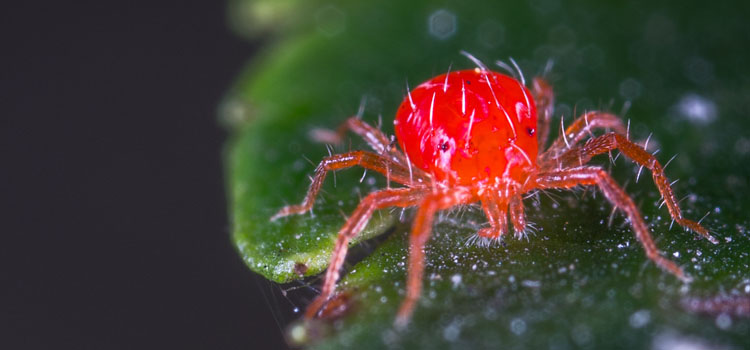Mites: (276, 37, 708, 310)
